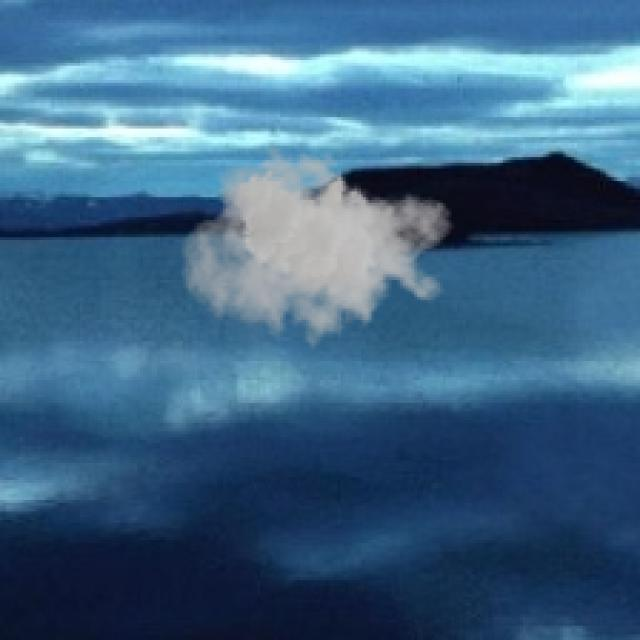smoke: (180, 146, 454, 360)
